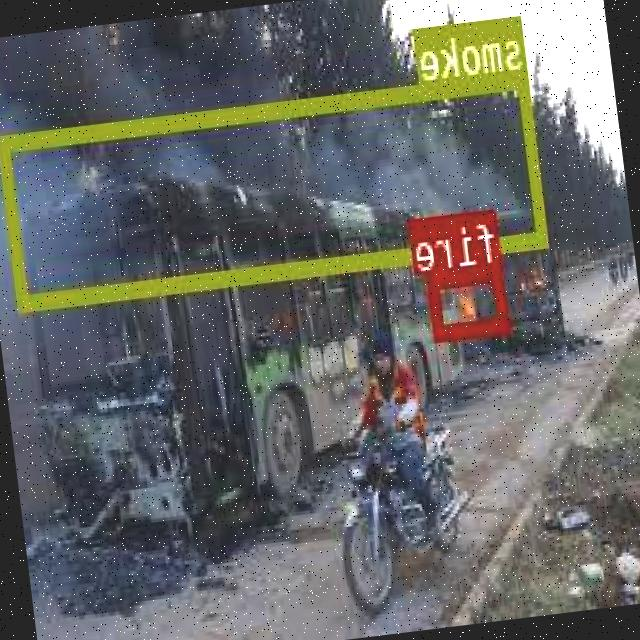fire: (428, 264, 512, 339)
smoke: (0, 67, 550, 309)
